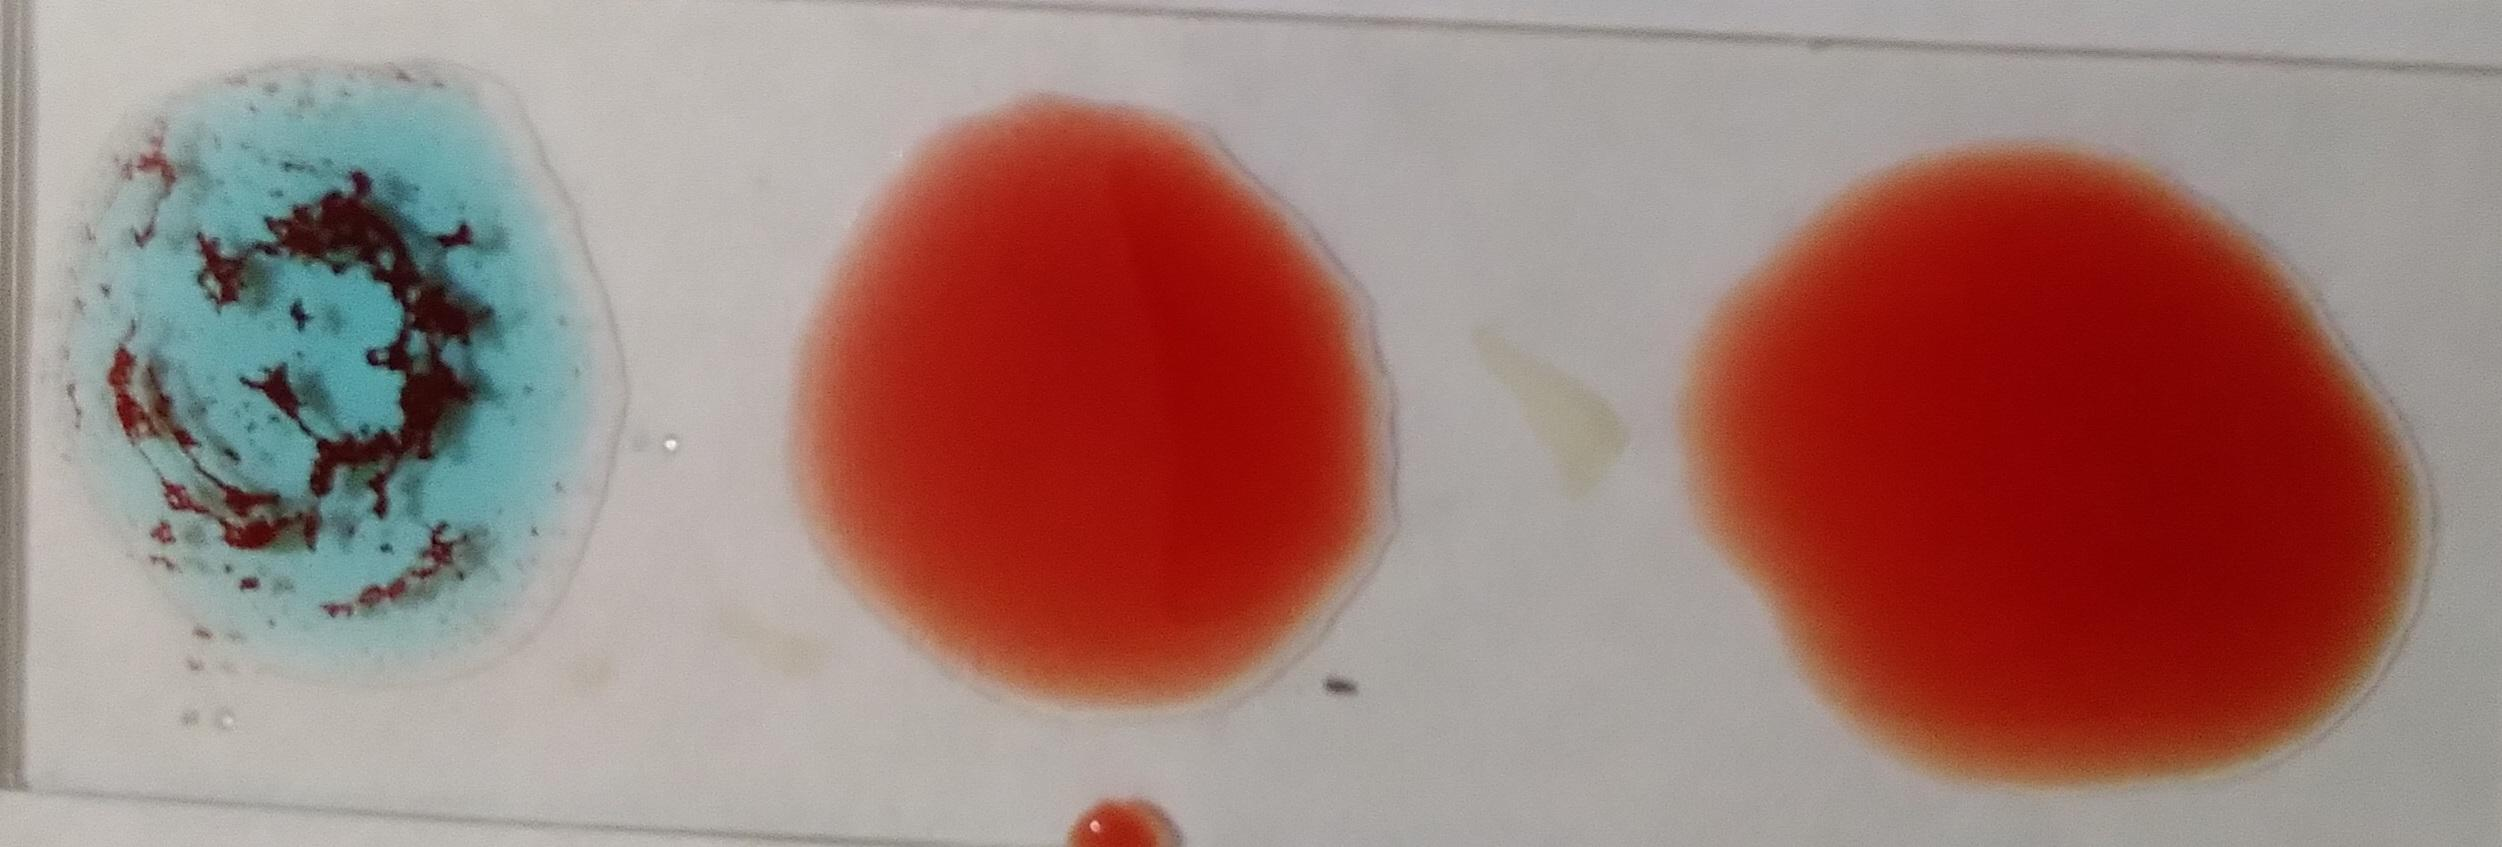A: (61, 46, 614, 684)
